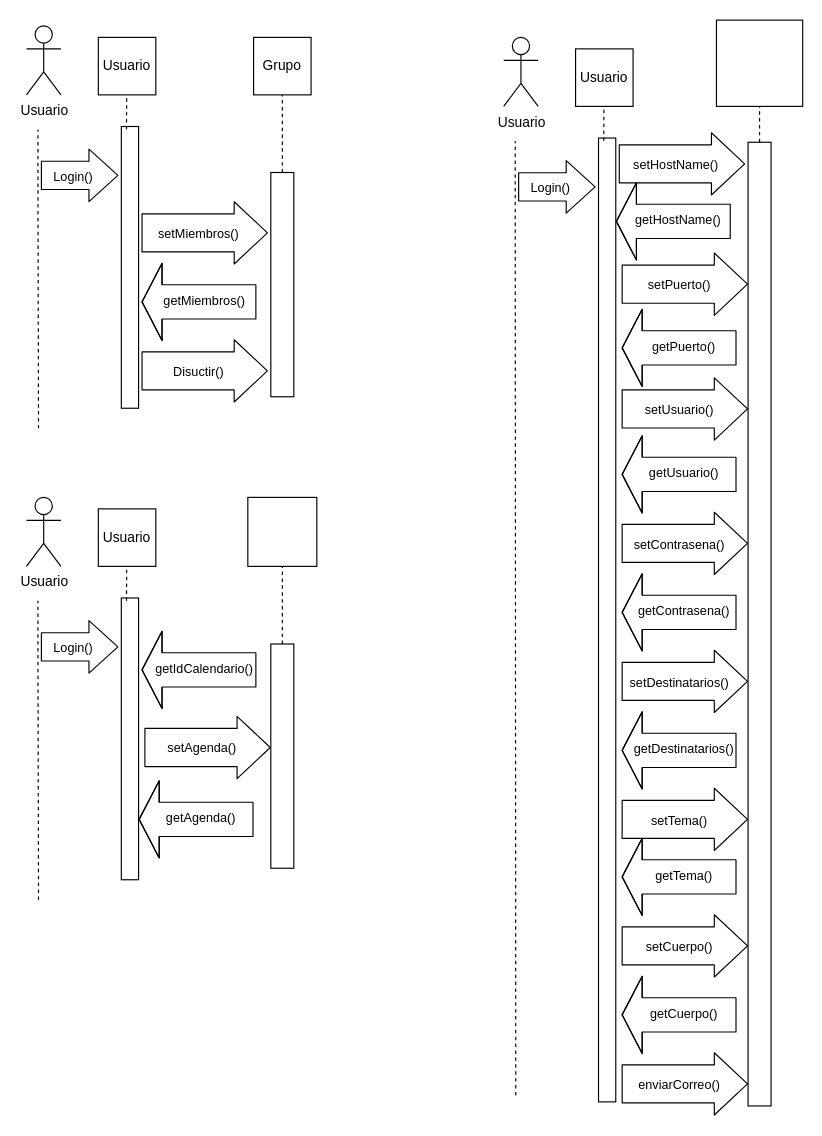
Image size: 822x1136. Some labels were removed from this diagram. Here are the shapes that lost their labels. From the top down, the centre of each, then its label:
At point (759, 62): "EnviarCorreo".
At point (282, 531): "Calendario".
